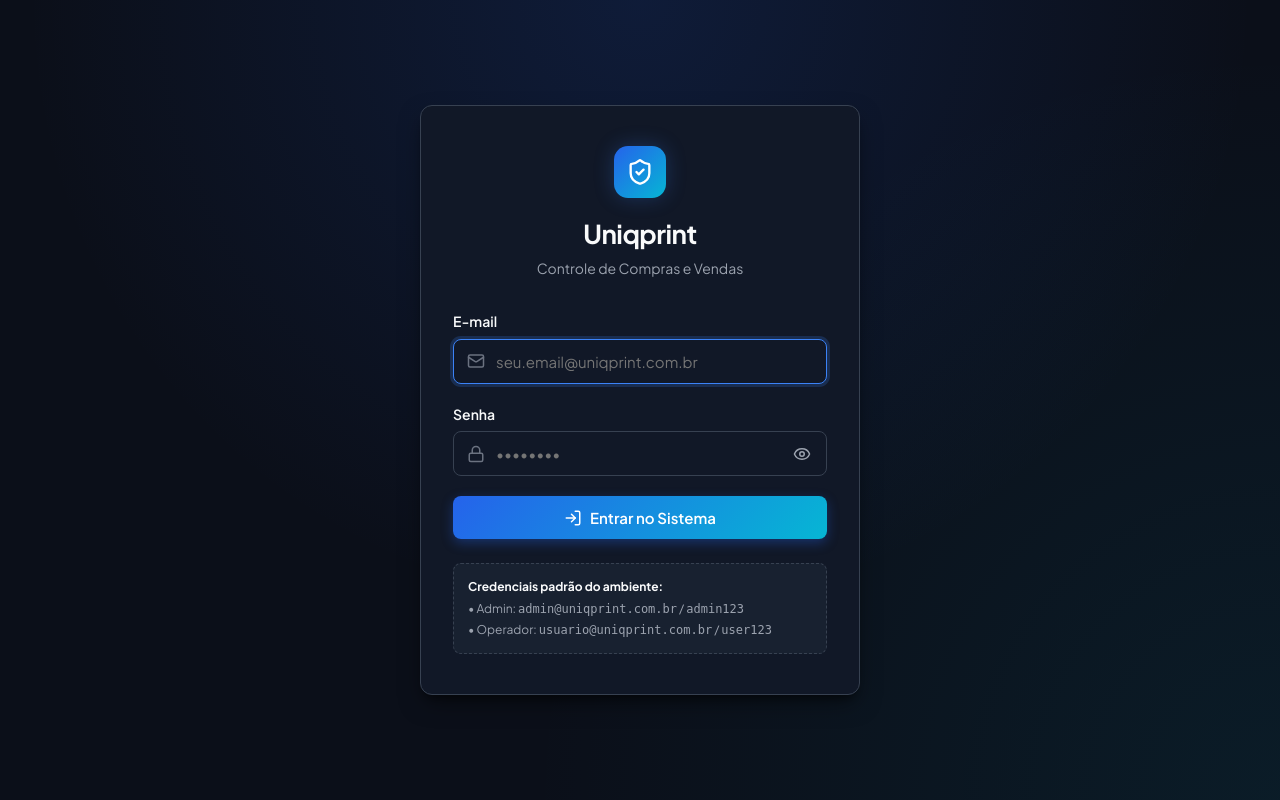
Test: Tela de Login (Front-end) › deve exibir banner de erro ao receber erro da API
Type "admin@uniqprint.com.br" into the field labelled "E-mail" at (640, 361), box [453,339,827,384]
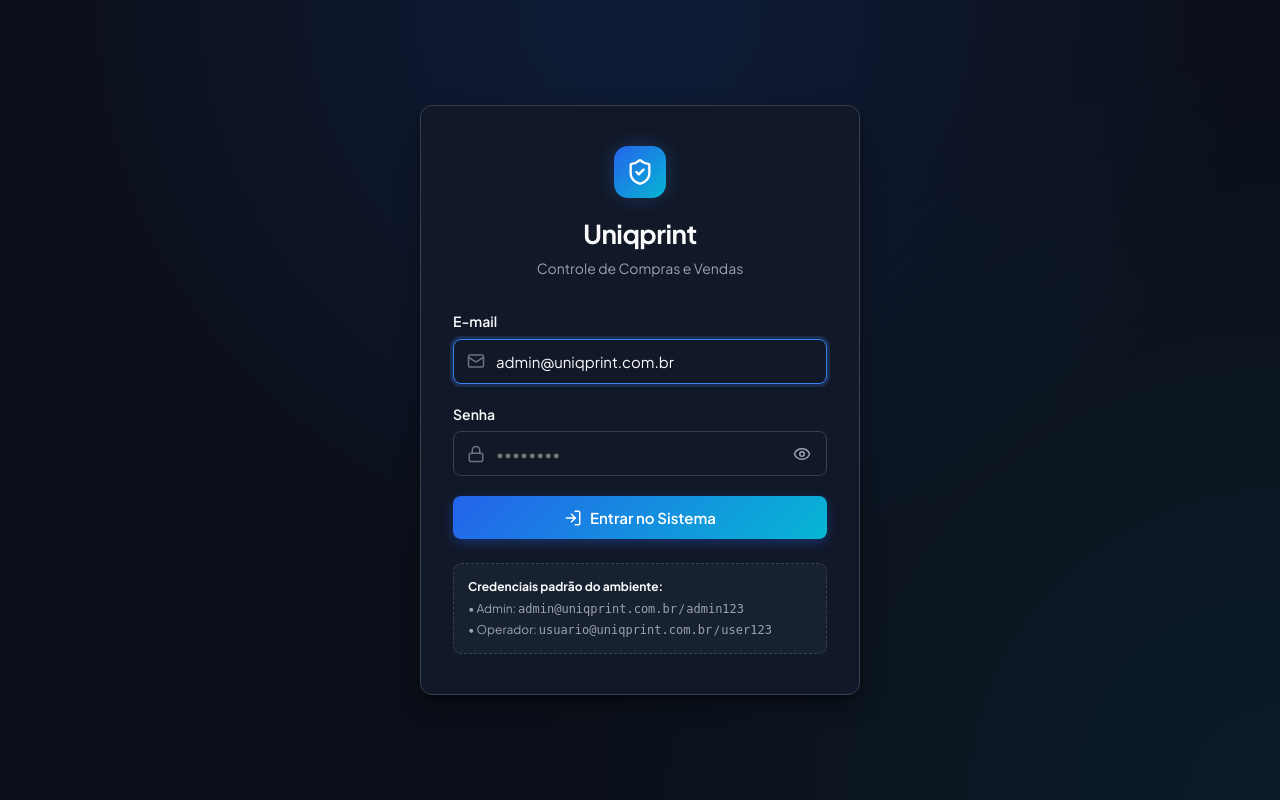
Type "senhaErrada" into the password field labelled "Senha" at (640, 454), box [453,431,827,476]
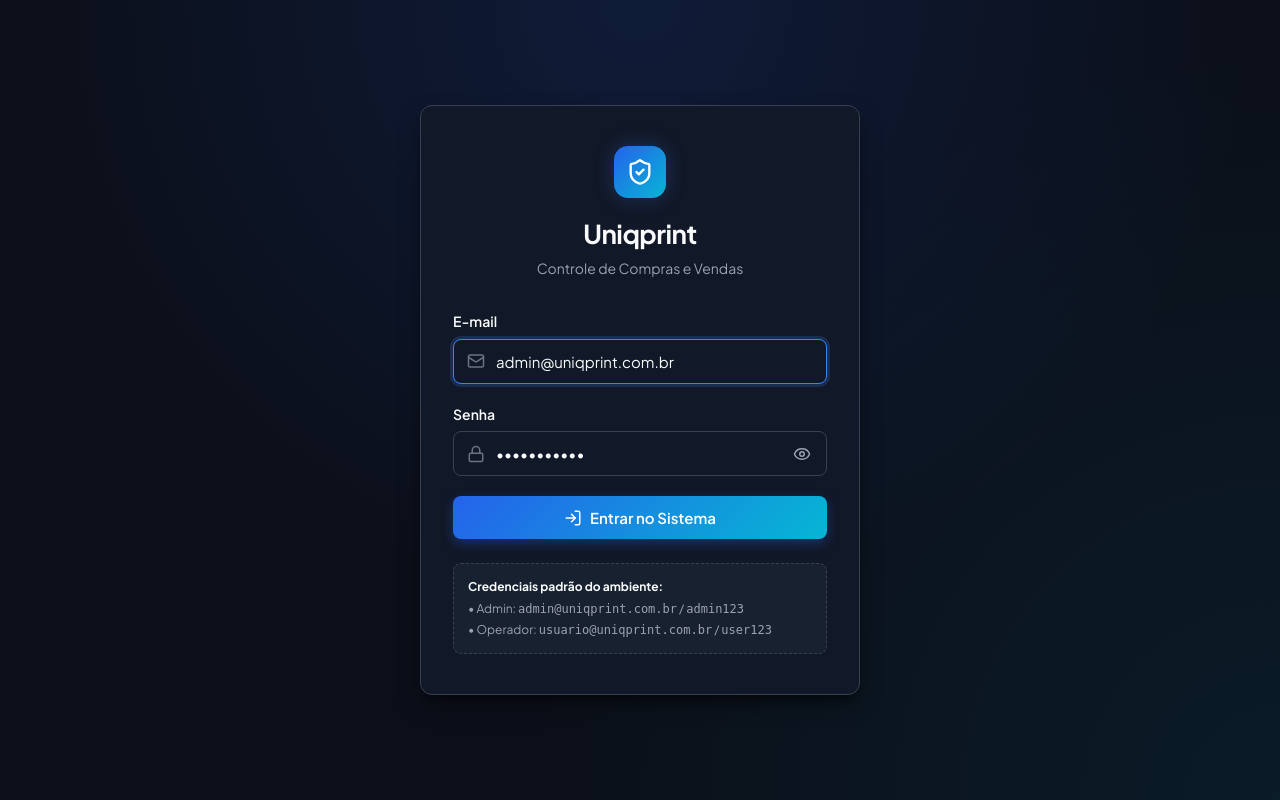
Click the button with test id "botao-entrar" at (640, 518), box [453,496,827,539]
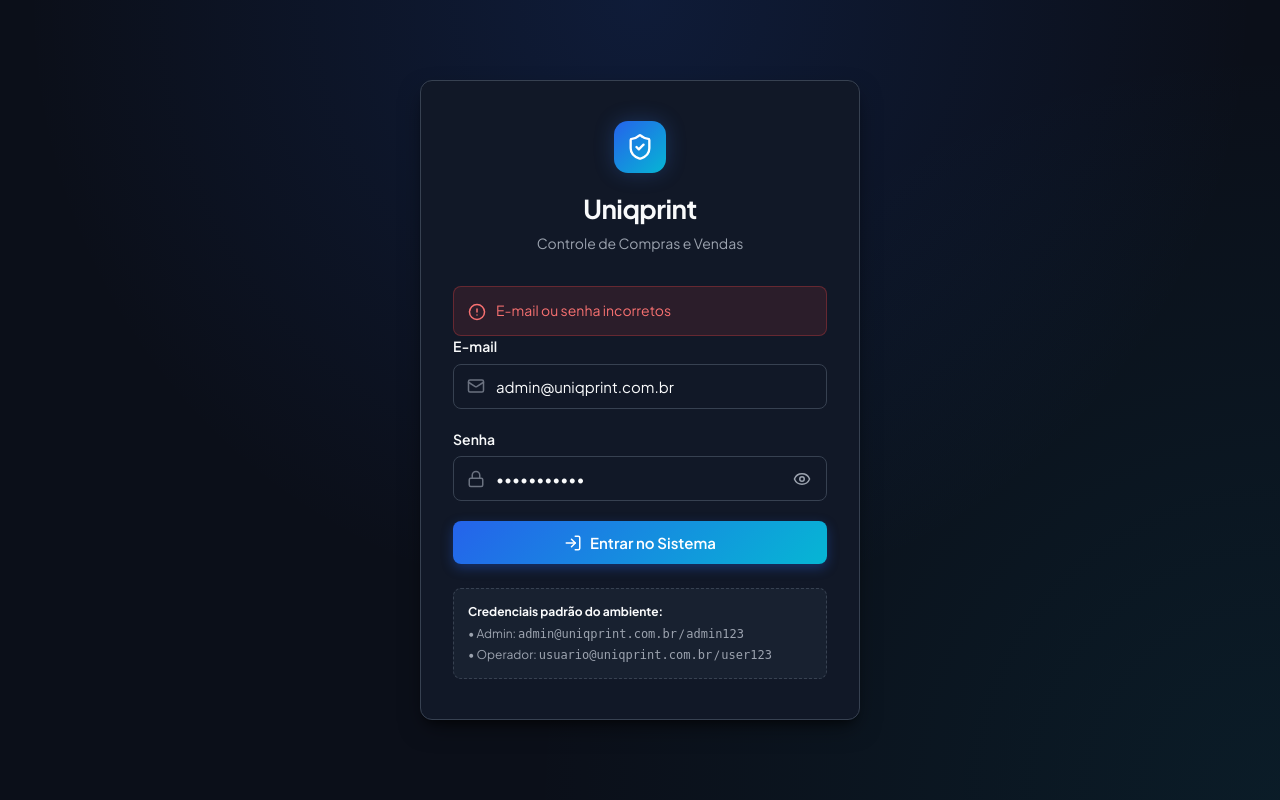
Check: the message with test id "alerta-erro" reads "E-mail ou senha incorretos", box [496,301,671,319]
